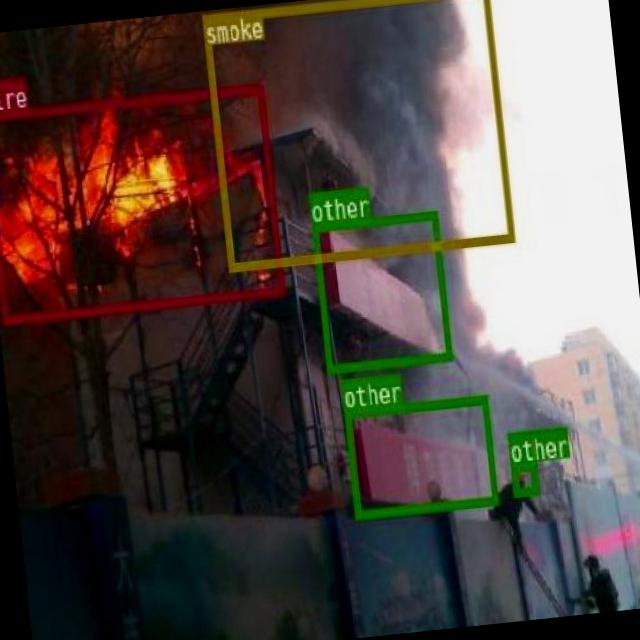fire: (0, 83, 283, 322)
smoke: (200, 0, 513, 269)
